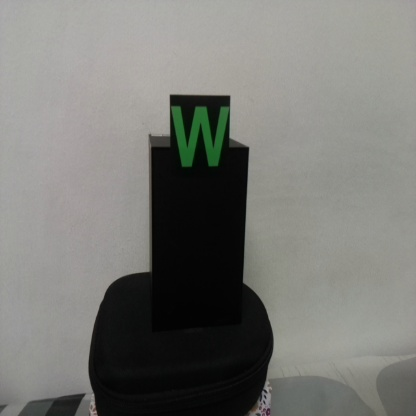id_12: (170, 94, 232, 185)
